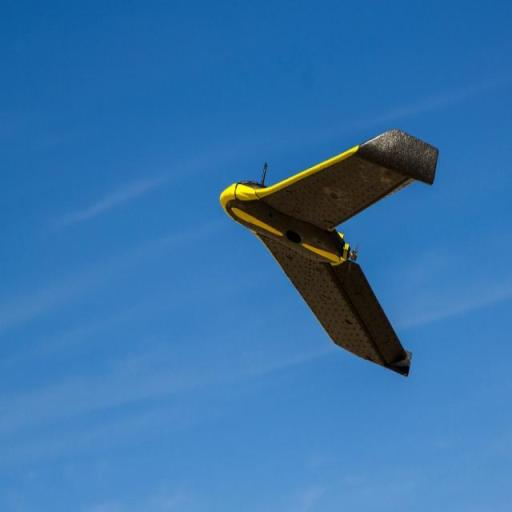uav: (212, 121, 439, 391)
